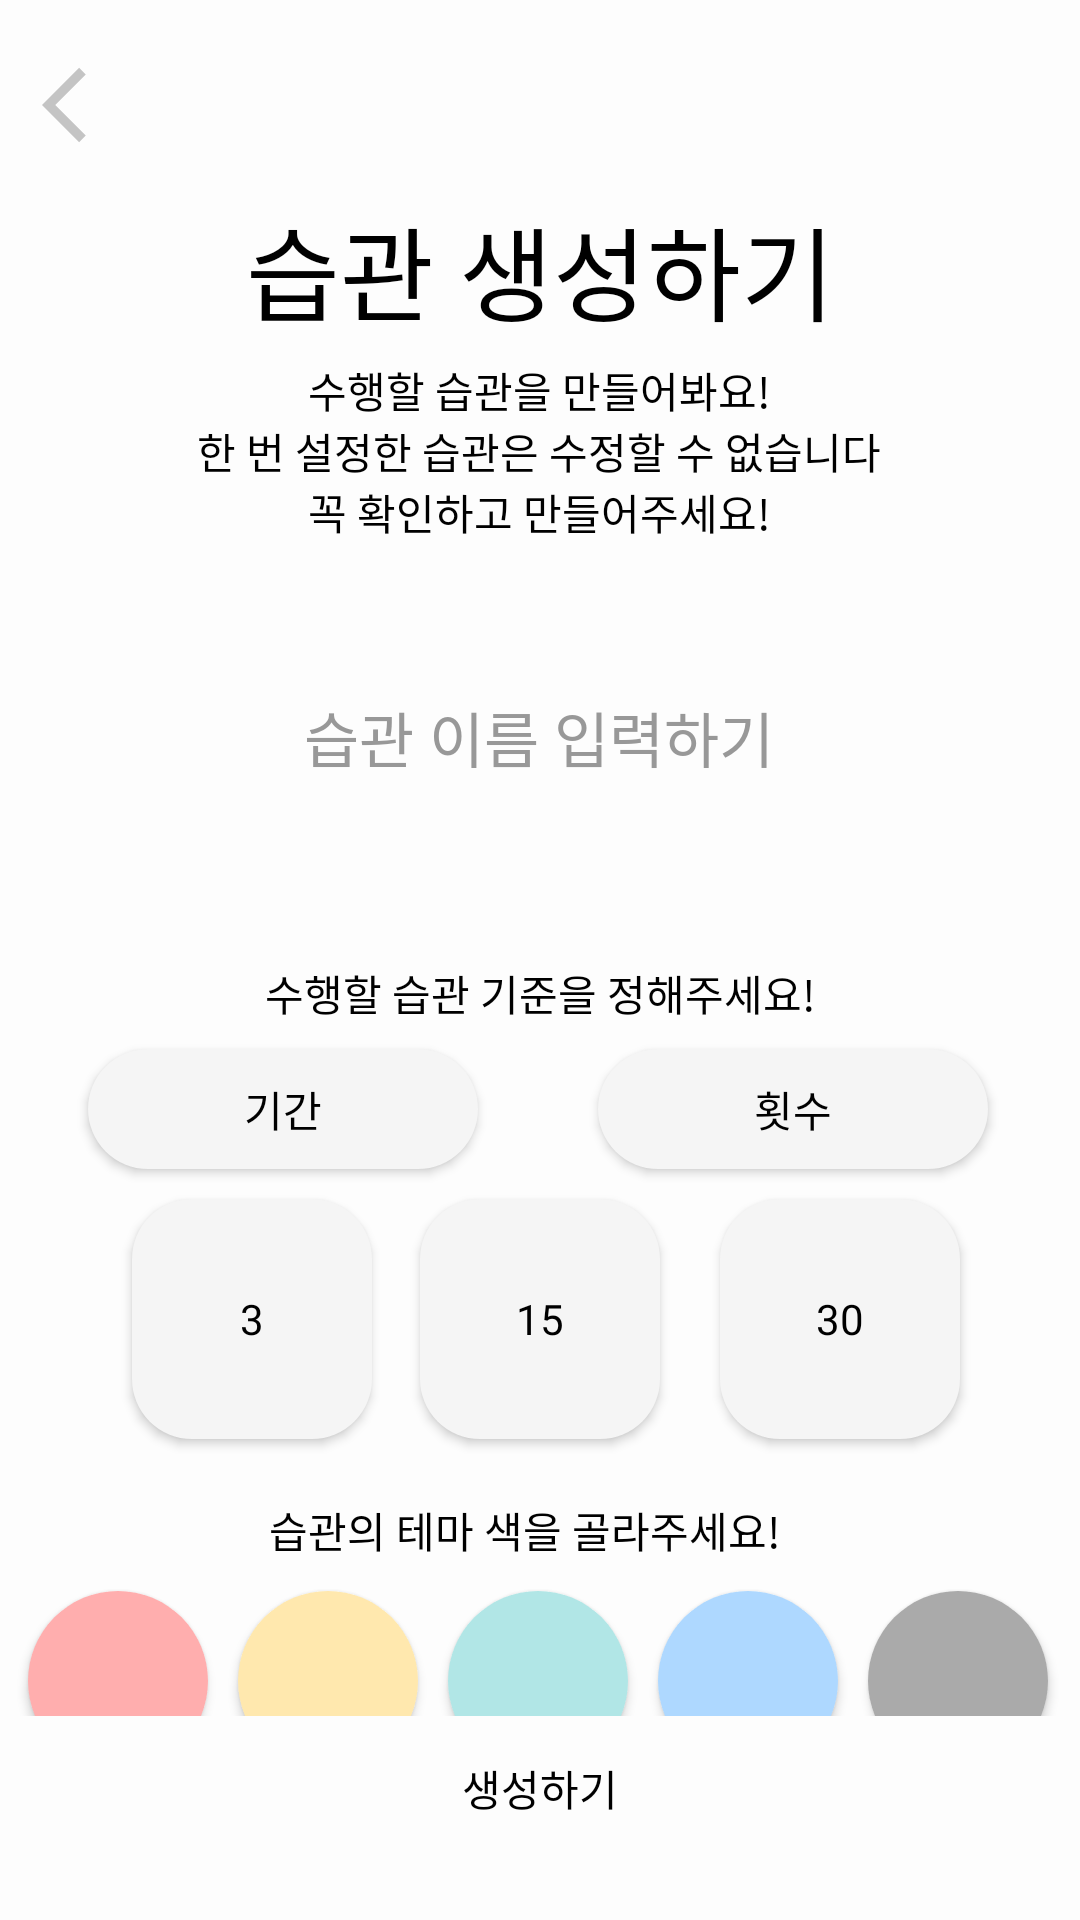

Named icons in this screenshot (1080px x 1920px) and their centers, (x,y):
back: (64,105)
